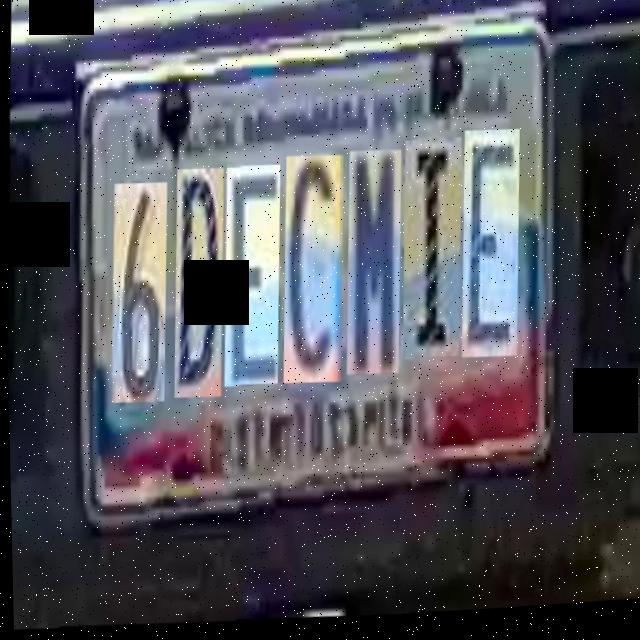6: (105, 179, 170, 403)
C: (278, 155, 346, 388)
D: (168, 166, 226, 398)
E: (455, 133, 522, 366), (218, 165, 283, 389)
I: (396, 141, 464, 365)
M: (340, 152, 404, 380)
